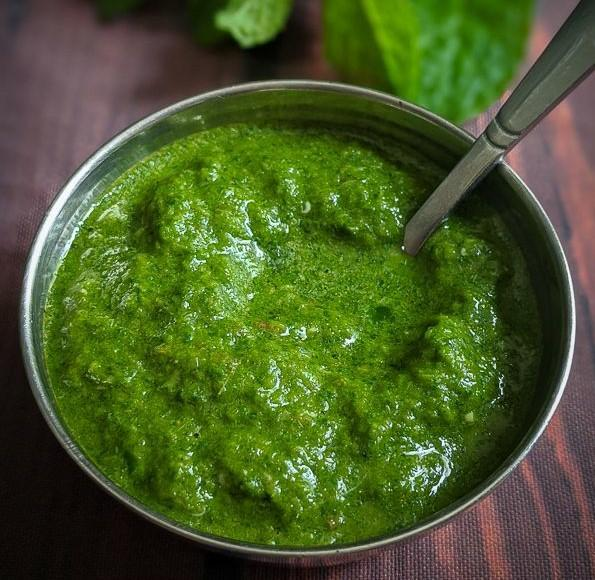GreenChutney: (42, 119, 543, 548)
